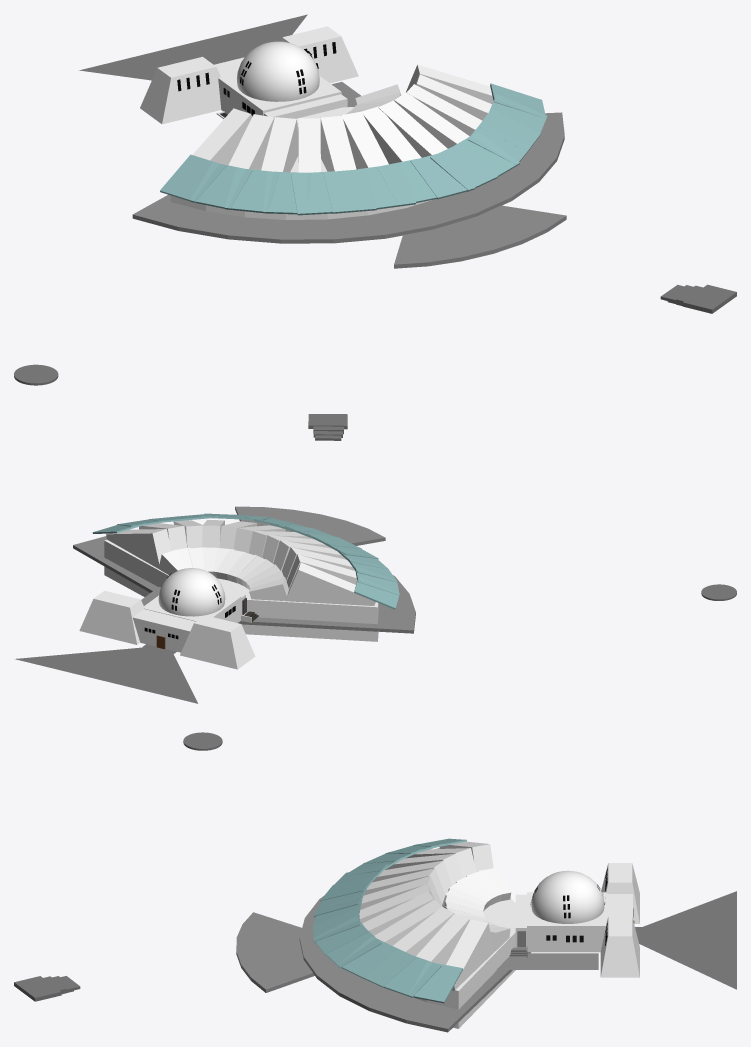
File: nyasta_asmundarsafnid_7.obj
The picture shows the model from 3 angles, top to bottom: view 1: azimuth 30°, elevation 25°; view 2: azimuth 150°, elevation 25°; view 3: azimuth 270°, elevation 25°; orthographic projection. The views are drawn at different scales.
Parts seen in each view (by area): view 1: Cube.047, Cube.033, Cylinder.001, Cylinder.002, Plane, Sphere, h_hlid, v_hlid, syningarsalur, innanhus, Cube, Cube.019 (+1 smaller); view 2: Cube.033, syningarsalur, Plane, Cube.047, Cylinder.001, h_hlid, Sphere, v_hlid, Cylinder.002, adaldyr, Cube, innanhus (+1 smaller); view 3: Cube.033, Cube.047, Plane, Cylinder.001, Cylinder.002, Sphere, innanhus, syningarsalur, v_hlid, Plane.001, h_hlid, Cube (+3 smaller).
Part boxes in pixels (x1=…): Cube.047: x1=160, y1=83, x2=547, y2=215; Cube.033: x1=192, y1=64, x2=493, y2=172; Cylinder.001: x1=132, y1=112, x2=564, y2=243; Cylinder.002: x1=394, y1=205, x2=566, y2=268; Plane: x1=79, y1=14, x2=307, y2=80; Sphere: x1=236, y1=41, x2=319, y2=101; h_hlid: x1=140, y1=56, x2=221, y2=124; v_hlid: x1=280, y1=26, x2=358, y2=83; syningarsalur: x1=170, y1=107, x2=433, y2=219; innanhus: x1=218, y1=72, x2=341, y2=116; Cube: x1=660, y1=284, x2=736, y2=313; Cube.019: x1=263, y1=94, x2=347, y2=118; Cube.033: x1=106, y1=520, x2=375, y2=605; syningarsalur: x1=104, y1=539, x2=378, y2=641; Plane: x1=15, y1=644, x2=198, y2=703; Cube.047: x1=92, y1=513, x2=399, y2=609; Cylinder.001: x1=73, y1=536, x2=415, y2=633; h_hlid: x1=180, y1=615, x2=255, y2=669; Sphere: x1=158, y1=568, x2=225, y2=616; v_hlid: x1=79, y1=590, x2=144, y2=644; Cylinder.002: x1=235, y1=506, x2=385, y2=545; adaldyr: x1=132, y1=609, x2=195, y2=652; Cube: x1=308, y1=414, x2=347, y2=440; innanhus: x1=144, y1=592, x2=241, y2=622; Cube.033: x1=359, y1=841, x2=511, y2=990; Cube.047: x1=313, y1=838, x2=466, y2=1003; Plane: x1=635, y1=891, x2=736, y2=989; Cylinder.001: x1=299, y1=848, x2=530, y2=1032; Cylinder.002: x1=236, y1=912, x2=314, y2=992; Sphere: x1=531, y1=870, x2=604, y2=923; innanhus: x1=527, y1=892, x2=607, y2=952; syningarsalur: x1=414, y1=898, x2=515, y2=1028; v_hlid: x1=600, y1=917, x2=639, y2=977; Plane.001: x1=496, y1=953, x2=598, y2=969; h_hlid: x1=601, y1=863, x2=639, y2=923; Cube: x1=14, y1=976, x2=80, y2=1001.
Size of the model in its own units: 71.2 by 9.13 by 73.85.
